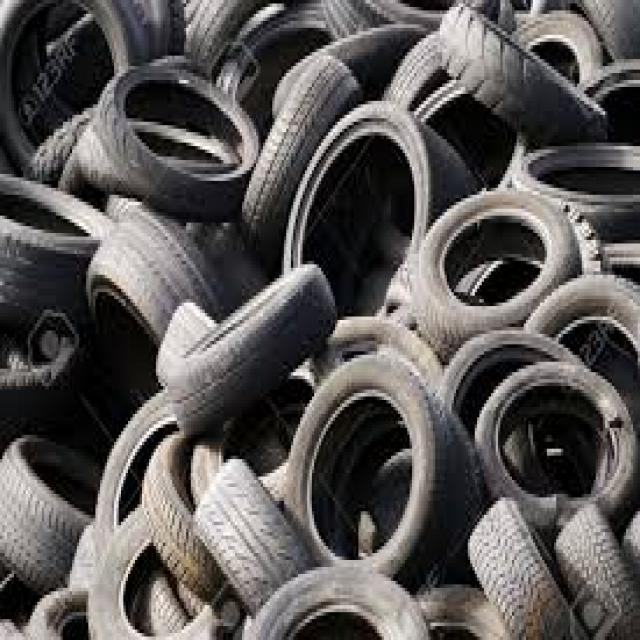Rubber -Non-Biodegradable but Recyclable-: (1, 0, 640, 640)
